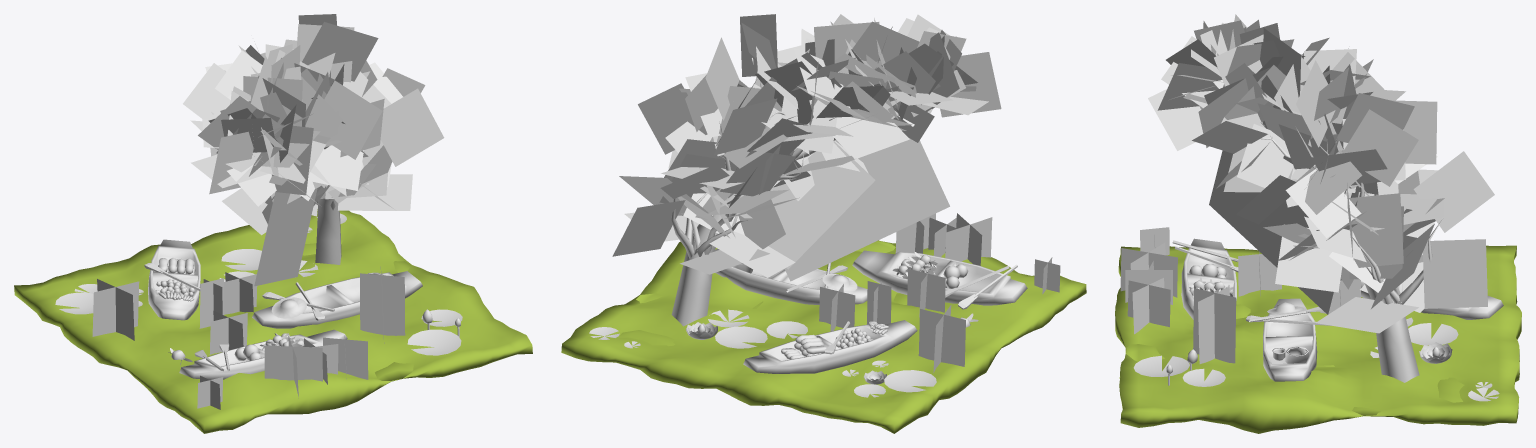
Rendered from FloatingMarket.fbx.
3 views of the same model, side by side, from view 1: azimuth 30°, elevation 25°; view 2: azimuth 150°, elevation 25°; view 3: azimuth 270°, elevation 25° (orthographic). The views are drawn at different scales.
Visible parts, largest first — view 1: Plane, leaves, Plane.024, Plane.002, Plane.022, Plane.003, Plane.015, Plane.019, Plane.001, Plane.018, Plane.016, Plane.021 (+7 smaller); view 2: leaves, Plane, Plane.024, Plane.025, Plane.001, Plane.003, Plane.002, Plane.015, Plane.019, Plane.018, Plane.016, Plane.017 (+6 smaller); view 3: leaves, Plane, Plane.024, Plane.022, Plane.002, Plane.021, Plane.001, Plane.018, Plane.019, Plane.003, Circle.004, Circle (+4 smaller).
Part boxes in pixels (x1=…): Plane: x1=14, y1=209, x2=532, y2=433; leaves: x1=183, y1=14, x2=444, y2=264; Plane.024: x1=254, y1=188, x2=317, y2=286; Plane.002: x1=252, y1=271, x2=422, y2=328; Plane.022: x1=360, y1=266, x2=405, y2=343; Plane.003: x1=148, y1=239, x2=200, y2=320; Plane.015: x1=92, y1=279, x2=139, y2=340; Plane.019: x1=264, y1=334, x2=322, y2=398; Plane.001: x1=179, y1=329, x2=347, y2=379; Plane.018: x1=209, y1=311, x2=247, y2=354; Plane.016: x1=223, y1=272, x2=257, y2=315; Plane.021: x1=323, y1=331, x2=368, y2=379; leaves: x1=612, y1=14, x2=1001, y2=326; Plane: x1=561, y1=240, x2=1086, y2=433; Plane.024: x1=785, y1=138, x2=949, y2=281; Plane.025: x1=768, y1=141, x2=875, y2=269; Plane.001: x1=852, y1=250, x2=1027, y2=305; Plane.003: x1=743, y1=320, x2=917, y2=373; Plane.002: x1=715, y1=248, x2=867, y2=304; Plane.015: x1=918, y1=305, x2=965, y2=372; Plane.019: x1=945, y1=213, x2=992, y2=265; Plane.018: x1=907, y1=266, x2=945, y2=317; Plane.016: x1=819, y1=284, x2=855, y2=331; Plane.017: x1=867, y1=281, x2=891, y2=324; leaves: x1=1148, y1=14, x2=1494, y2=382; Plane: x1=1115, y1=245, x2=1521, y2=433; Plane.024: x1=1209, y1=150, x2=1333, y2=314; Plane.022: x1=1193, y1=287, x2=1236, y2=363; Plane.002: x1=1263, y1=298, x2=1317, y2=381; Plane.021: x1=1127, y1=278, x2=1170, y2=334; Plane.001: x1=1181, y1=238, x2=1236, y2=319; Plane.018: x1=1238, y1=251, x2=1281, y2=296; Plane.019: x1=1120, y1=242, x2=1177, y2=297; Plane.003: x1=1340, y1=279, x2=1503, y2=319; Circle.004: x1=1408, y1=323, x2=1458, y2=345; Circle: x1=1133, y1=355, x2=1189, y2=376.
Size of the model in its own units: 1048 by 903 by 1045.
